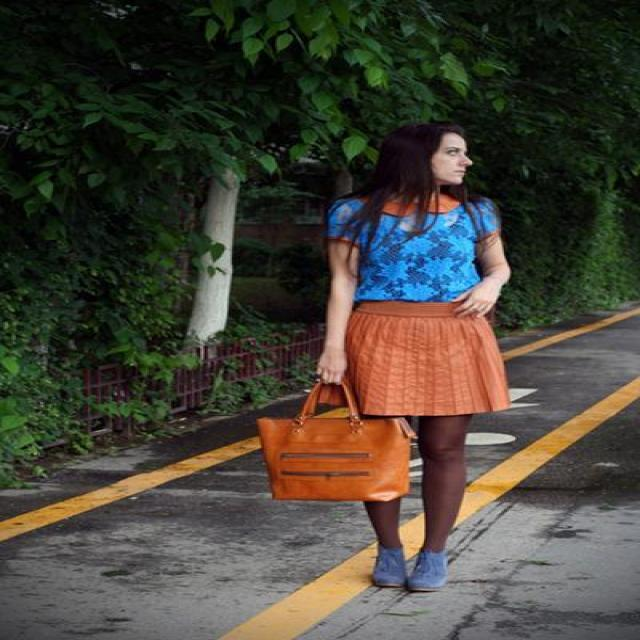bag: (256, 378, 421, 500)
shirt: (326, 198, 499, 316)
shoe: (367, 550, 458, 596)
skirt: (339, 294, 517, 438)
